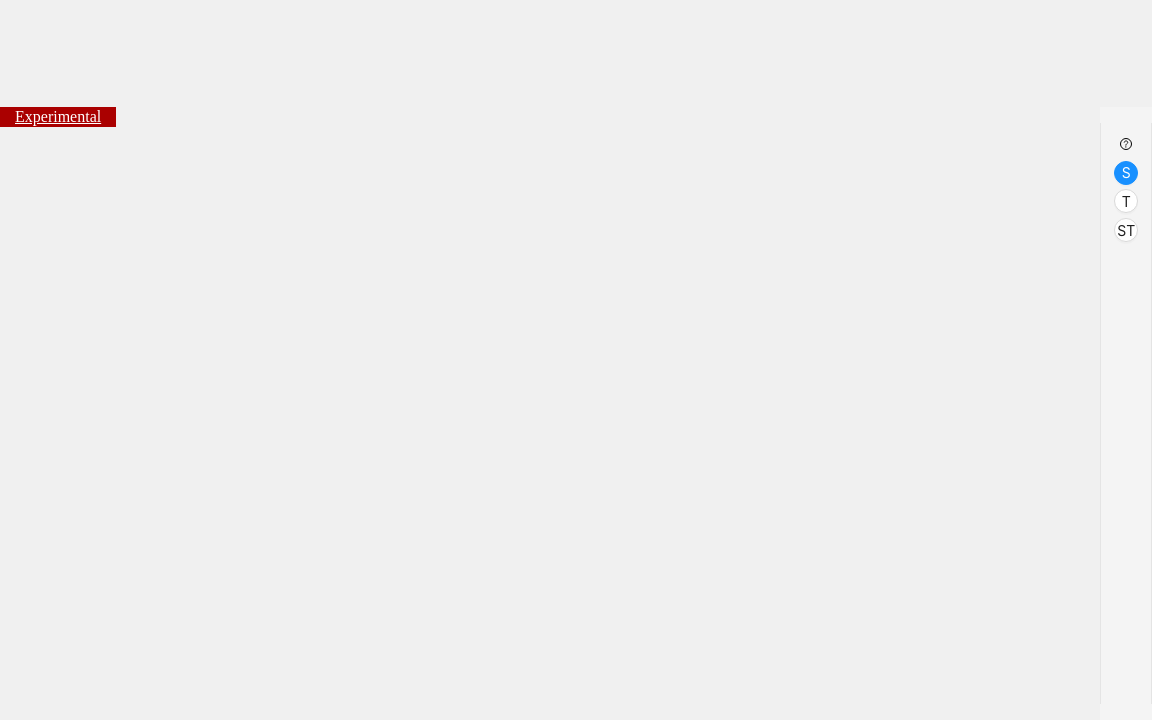
Test case: <TraceGraph> › hides help
Click the icon with test id "help-icon": point(1126, 144) [1118,136,1134,152]
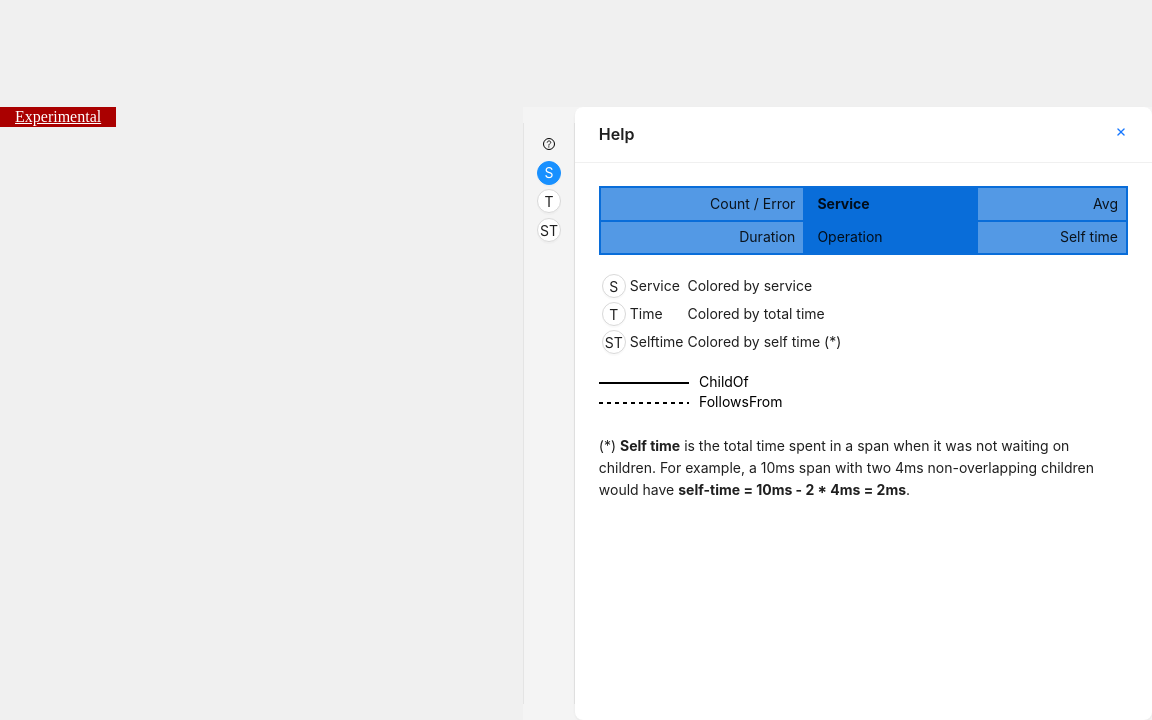
Click the button named "Close": point(1121, 134) [1114,126,1128,142]
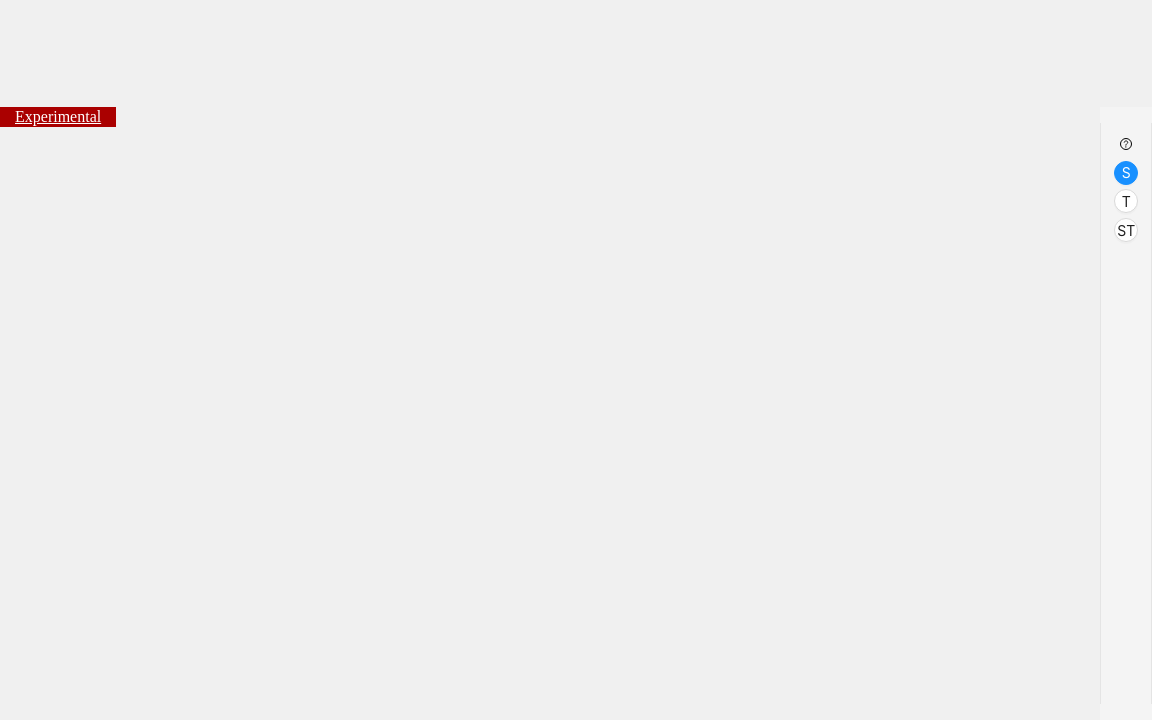
Expected: the element with test id "help-content" is gone
